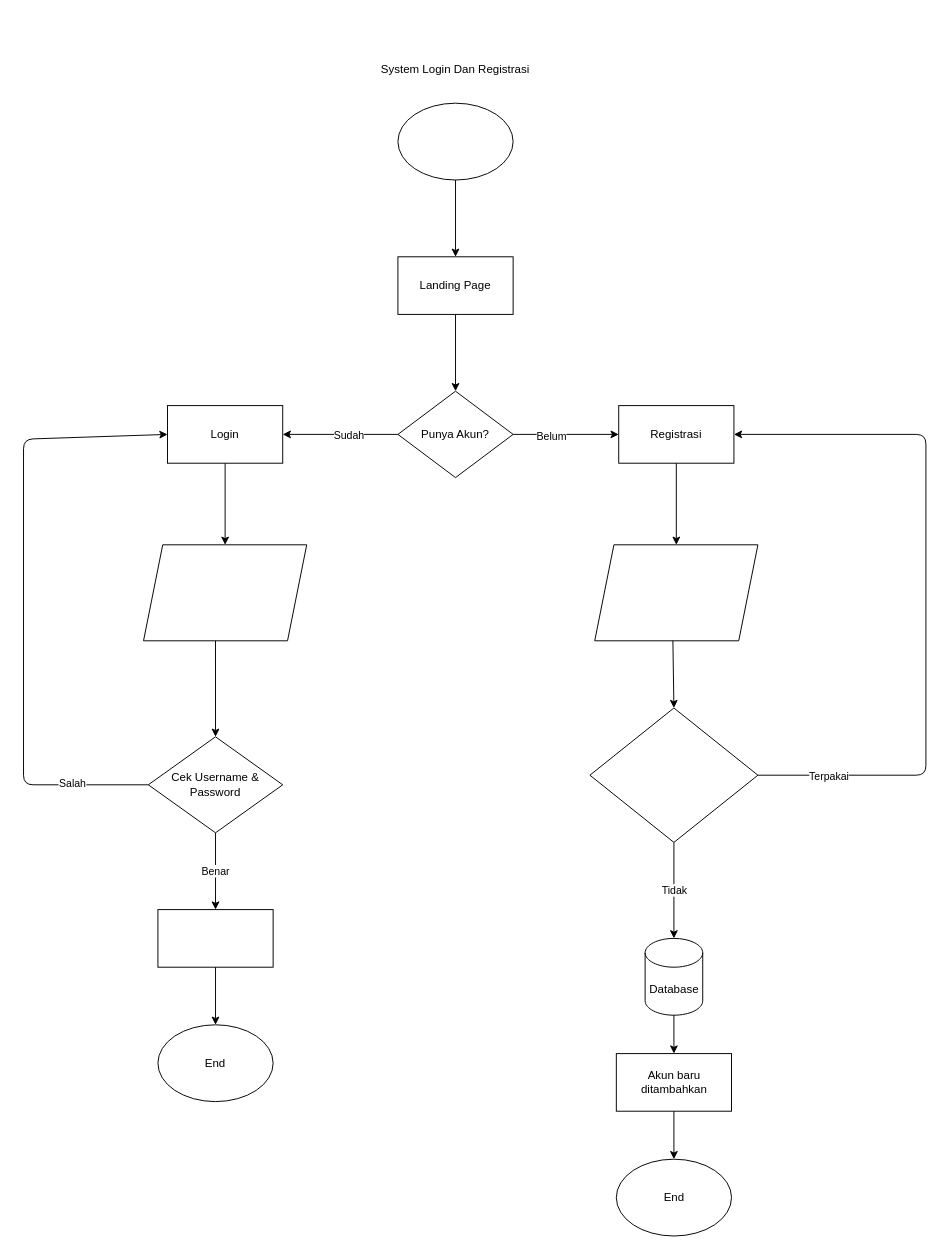
This 950x1253 diagram has some shape labels left out. Here are the shapes that lost their labels. From the top down, the centre of each, then its label:
At (455,141): "Start".
At (225,592): "Masukkan Username & Password".
At (676,592): "Masukkan Data".
At (673,774): "Cek username apakah sudah terpakai".
At (215,938): "Halaman Web sesuai hak akses user".
